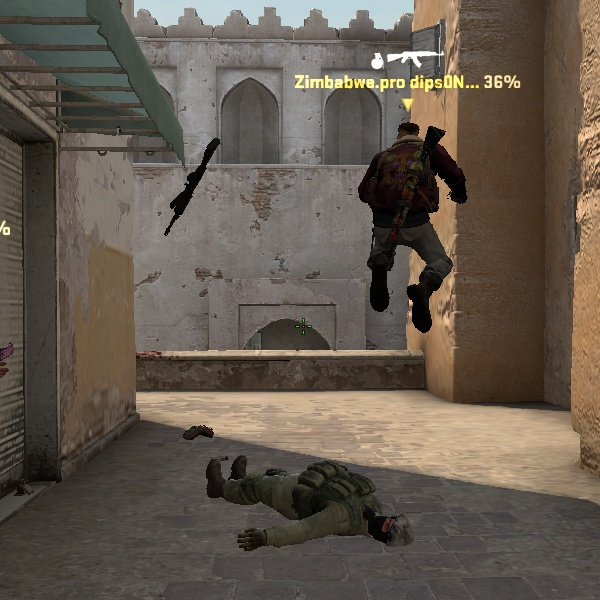t_body: (363, 119, 465, 333)
t_head: (396, 119, 422, 152)
